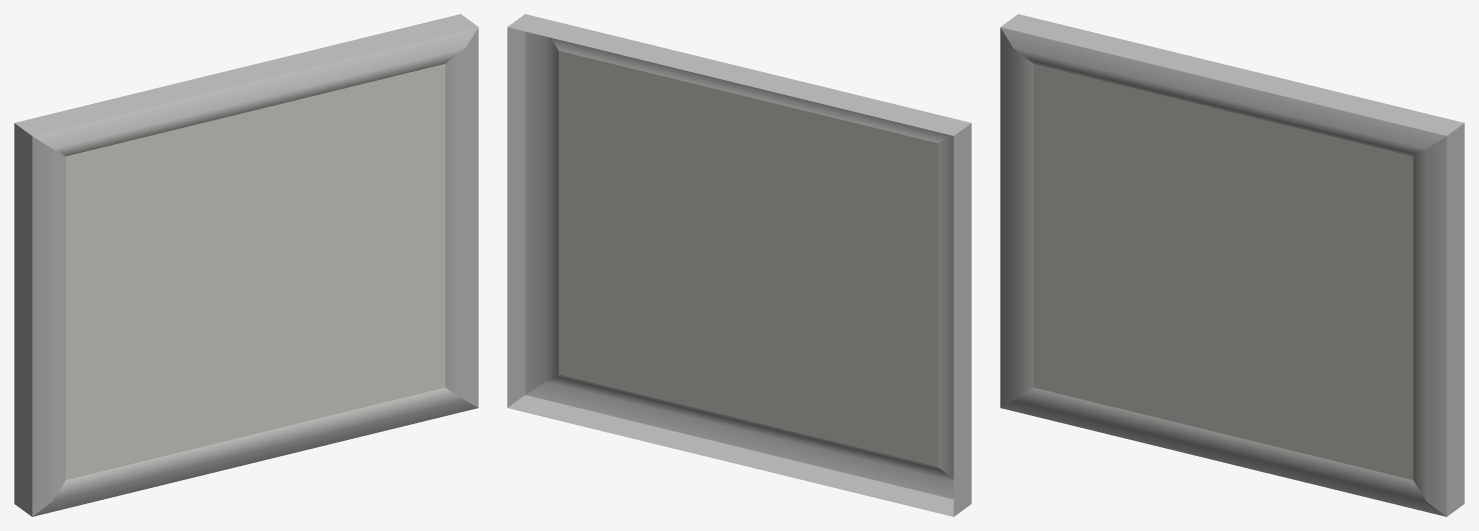
File: soft_board.fbx
The picture shows the model from 3 angles, left to right: view 1: azimuth 30°, elevation 25°; view 2: azimuth 150°, elevation 25°; view 3: azimuth 330°, elevation 25°; orthographic projection.
Visible parts, largest first — view 1: soft_board; view 2: soft_board; view 3: soft_board.
Boxes of the visible parts, box(x1,y1,x2,y2) form: soft_board: box(14, 14, 478, 516); soft_board: box(507, 14, 971, 516); soft_board: box(1000, 14, 1464, 516).
Size of the model in its own units: 6.86 by 5.59 by 0.573.
